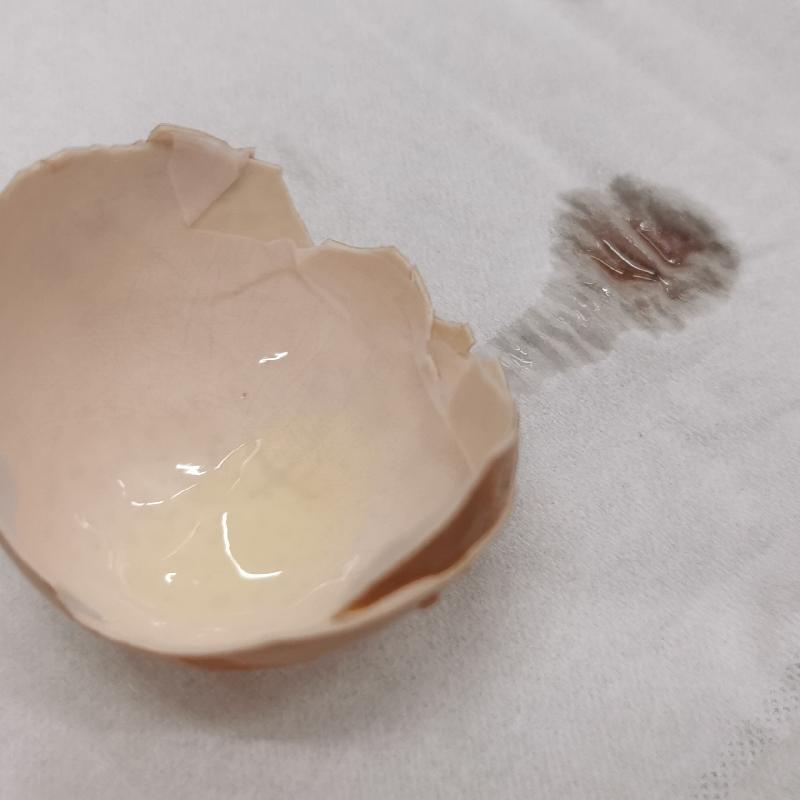eggshell: (7, 121, 521, 672)
